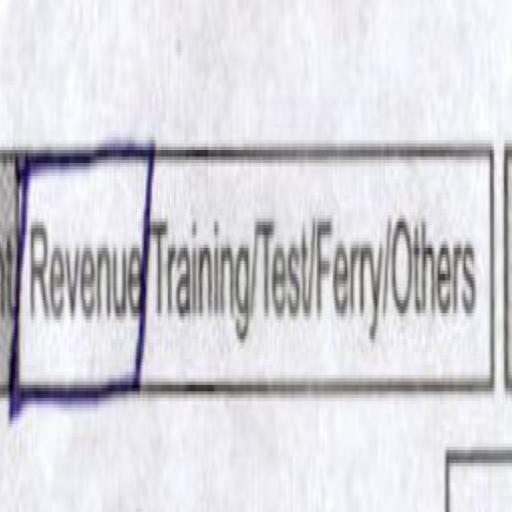check: (5, 104, 147, 464)
